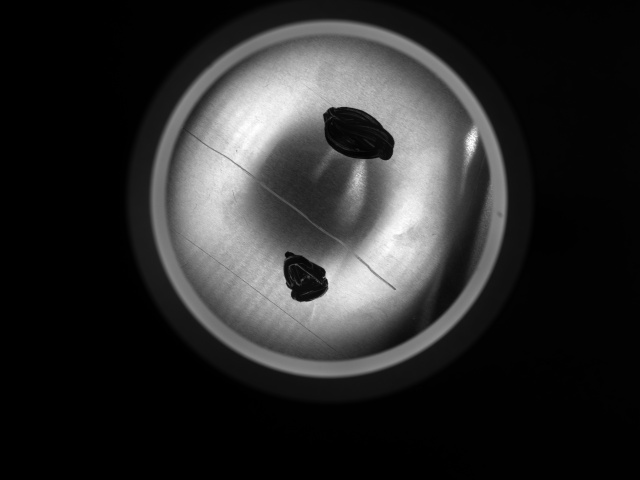ca_shang: (179, 121, 398, 292), (171, 223, 346, 356)
zang_wu: (321, 103, 395, 163), (279, 248, 330, 302)
